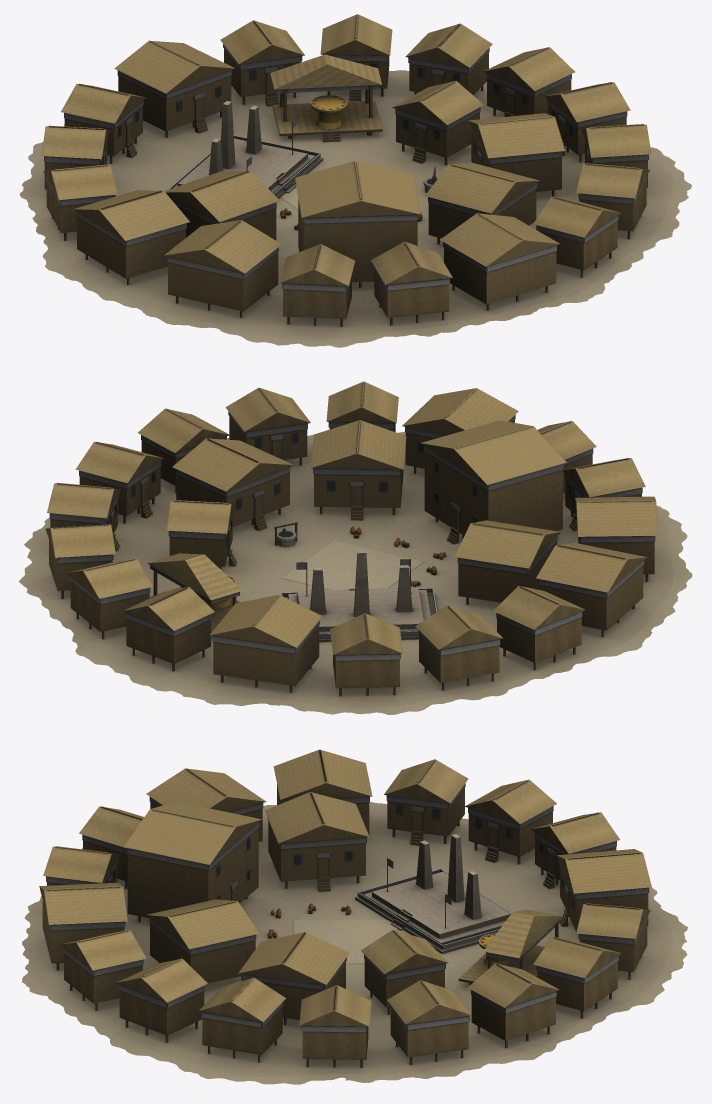
File: bronze-town-big-b-monsoon.glb
3 renders of one model, top to bottom at view 1: azimuth 30°, elevation 25°; view 2: azimuth 150°, elevation 25°; view 3: azimuth 270°, elevation 25°, orthographic.
Visible parts, largest first — view 1: LOD0; view 2: LOD0; view 3: LOD0.
Boxes of the visible parts, <box> form: LOD0: <box>20,14,691,347</box>; LOD0: <box>19,381,692,714</box>; LOD0: <box>22,749,687,1084</box>.
Size of what is drawn, in the model's own units: 7.98 by 1.22 by 7.91.
3 materials, 3 textured.
